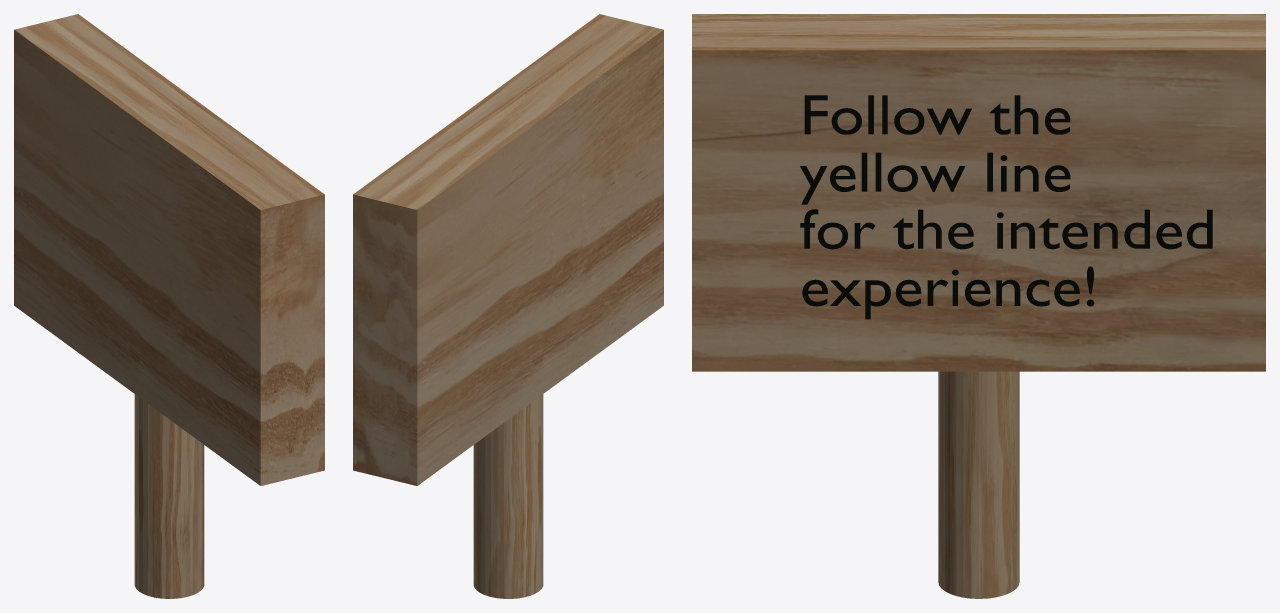
The model's file is sign.fbx.
The picture shows the model from 3 angles, left to right: view 1: azimuth 30°, elevation 25°; view 2: azimuth 150°, elevation 25°; view 3: azimuth 270°, elevation 25°; orthographic projection. The views are drawn at different scales.
Parts seen in each view (by area): view 1: Cube, Cylinder; view 2: Cube, Cylinder; view 3: Cube, Cylinder, Text.
Part boxes in pixels (box(x1,y1,x2,y2)): Cube: box(14, 14, 324, 485); Cylinder: box(134, 394, 204, 598); Cube: box(353, 14, 663, 485); Cylinder: box(473, 394, 543, 598); Cube: box(692, 14, 1265, 371); Cylinder: box(938, 371, 1019, 598); Text: box(800, 95, 1212, 319).
Size of the model in its own units: 51.65 by 342 by 324.
Materials: 2 (1 with a texture image).
